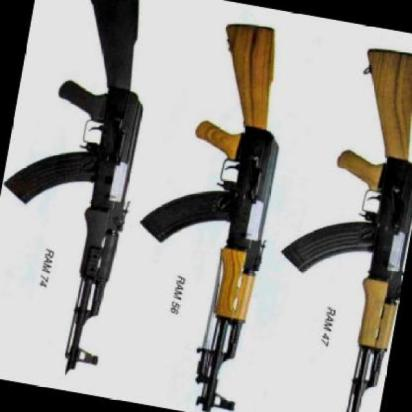Gun: (105, 8, 302, 409), (243, 29, 411, 412), (0, 0, 167, 376)
